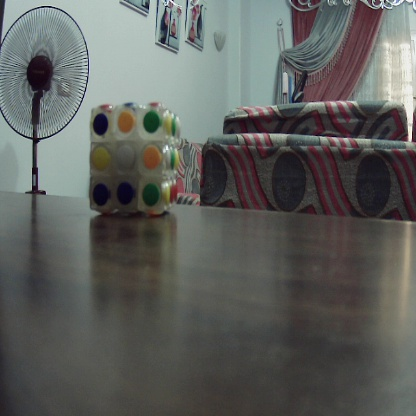Rubix Cube: (90, 102, 179, 217)
